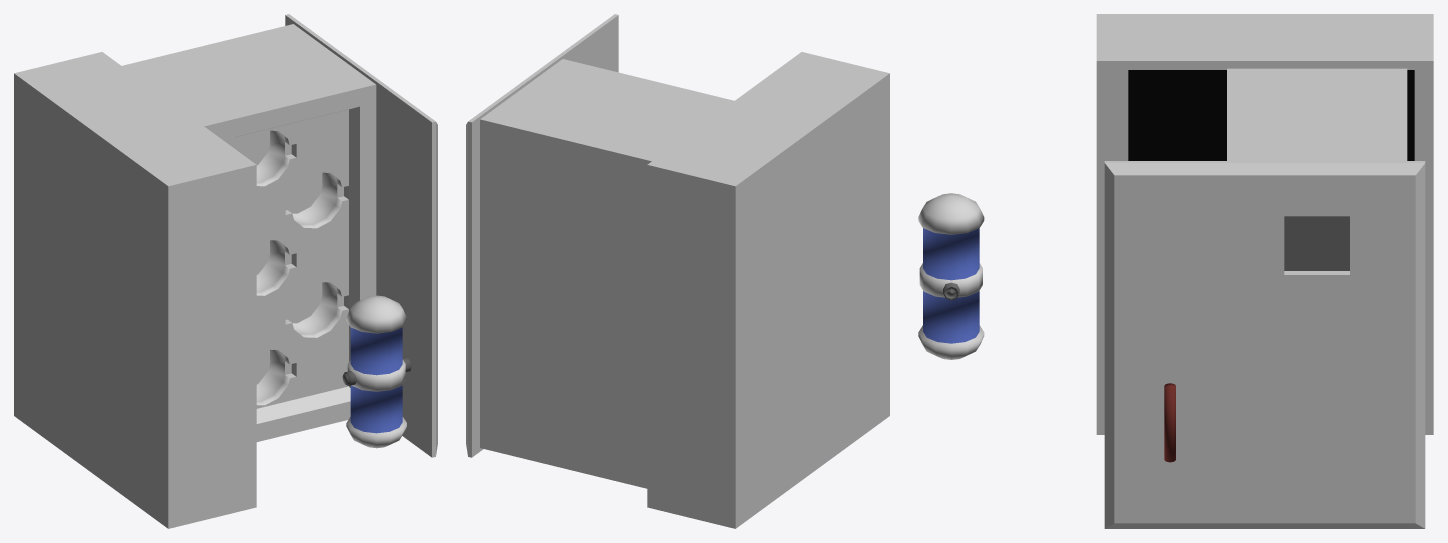
The model's file is AntimatterCell.fbx.
The picture shows the model from 3 angles, left to right: view 1: azimuth 30°, elevation 25°; view 2: azimuth 150°, elevation 25°; view 3: azimuth 270°, elevation 25°; orthographic projection. The views are drawn at different scales.
Visible parts, largest first — view 1: Base, Drawer, AntimatterCell; view 2: Base, Drawer; view 3: Drawer, Base, AntimatterCell.
Part boxes in pixels (bbox=[...]): Base: bbox=[14, 52, 256, 528]; Drawer: bbox=[122, 14, 437, 457]; AntimatterCell: bbox=[342, 295, 411, 448]; Base: bbox=[647, 52, 889, 528]; Drawer: bbox=[466, 14, 734, 488]; Drawer: bbox=[1104, 68, 1425, 528]; Base: bbox=[1096, 14, 1433, 434]; AntimatterCell: bbox=[918, 193, 984, 359].
Bounding box in the file's own units: 78.11 × 56.22 × 62.56.
